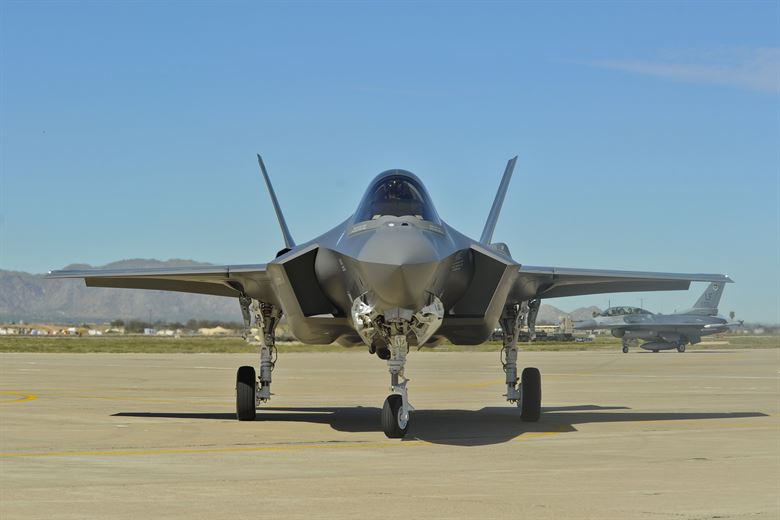F-16: (575, 293, 736, 372)
F-35 Lightning: (32, 118, 744, 440)
